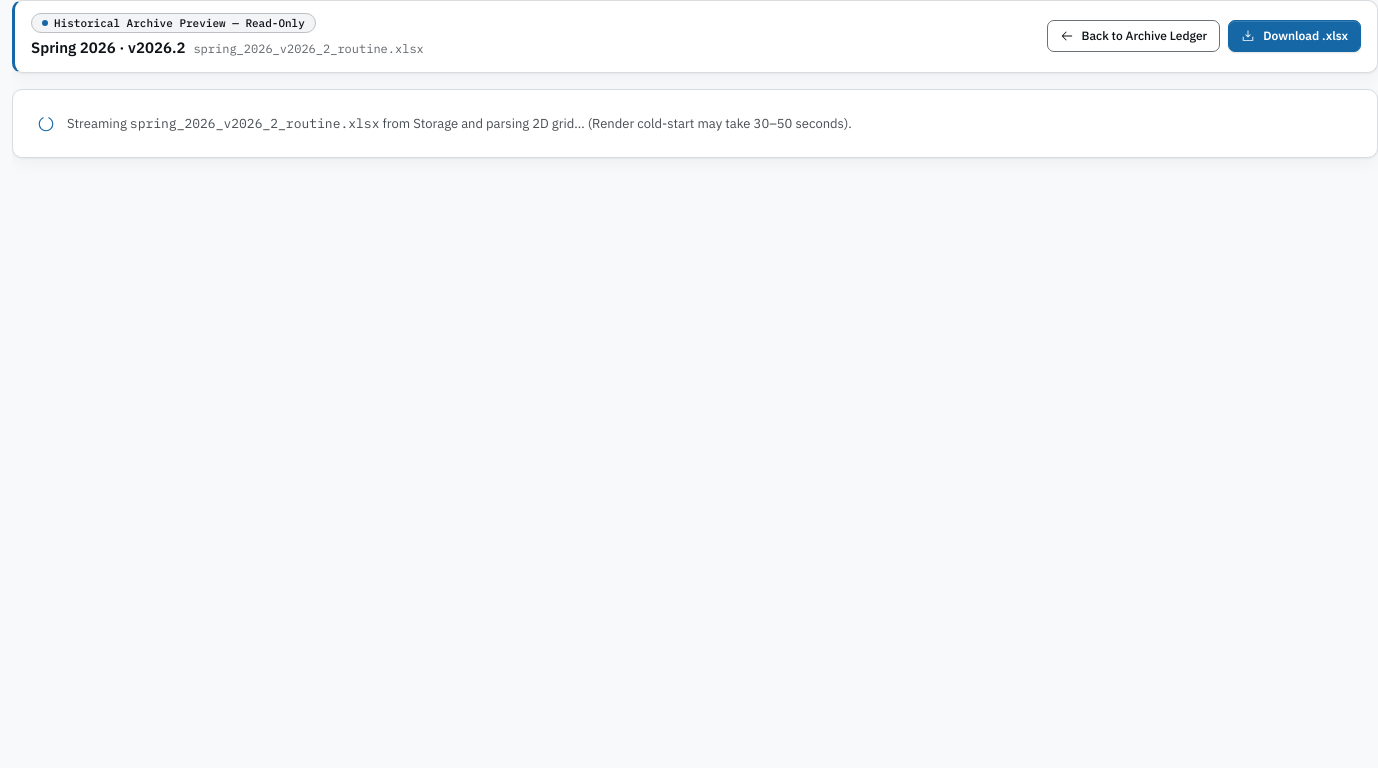
UploadRoutineTab, RoutineArchiveTab v2a preview & Gate A/B badge › opens and closes Historical Archive Preview — Read-Only in RoutineArchiveTab
Earlier steps of the test are not shown.
Expected: the message with test id "archive-grid-preview-banner" shows "Historical Archive Preview — Read-Only", [54,16,305,30]
What coordinates should you click on to do the following:
click the button with test id "archive-back-to-ledger-btn"
I would click on:
 (1133, 36)
Its box is [1047,20,1220,52].
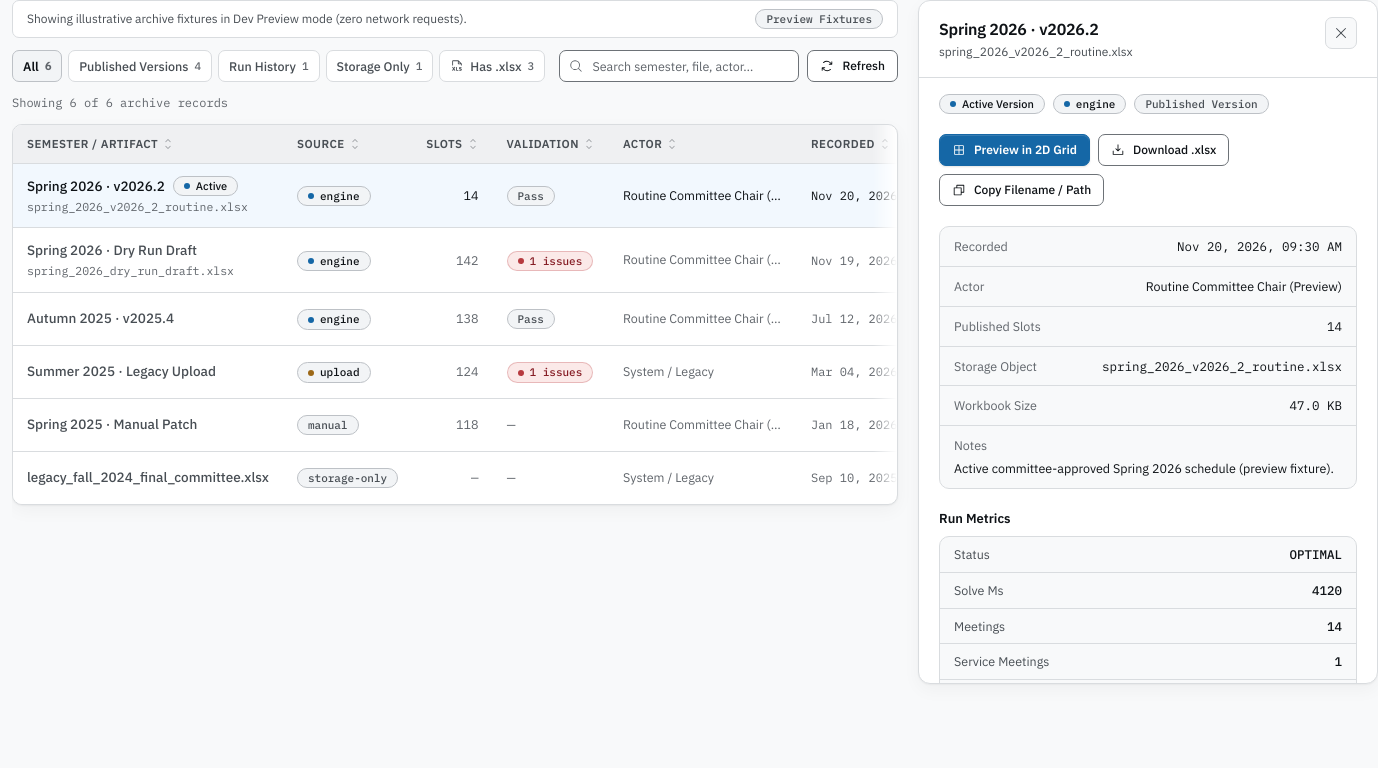
Result: the element with test id "routine-archive-view" is shown at [12,0,898,505]
